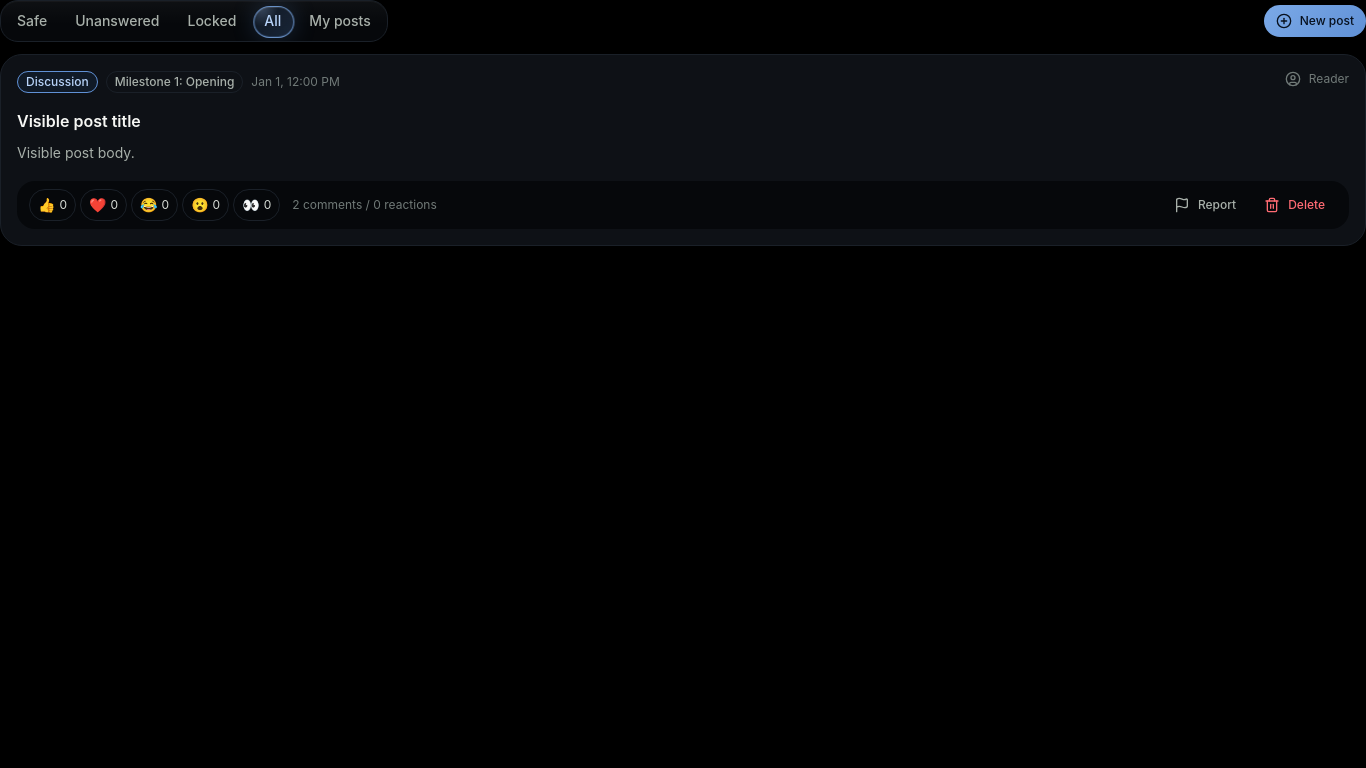
frontend regression smoke › deletes posts from feed cards when permitted
Expected: the link "Visible post title" is shown, [17,111,141,131]
What coordinates should you click on to do the following:
click the button "Delete"
I would click on:
 (1295, 205)
Its box is [1252,189,1337,221].
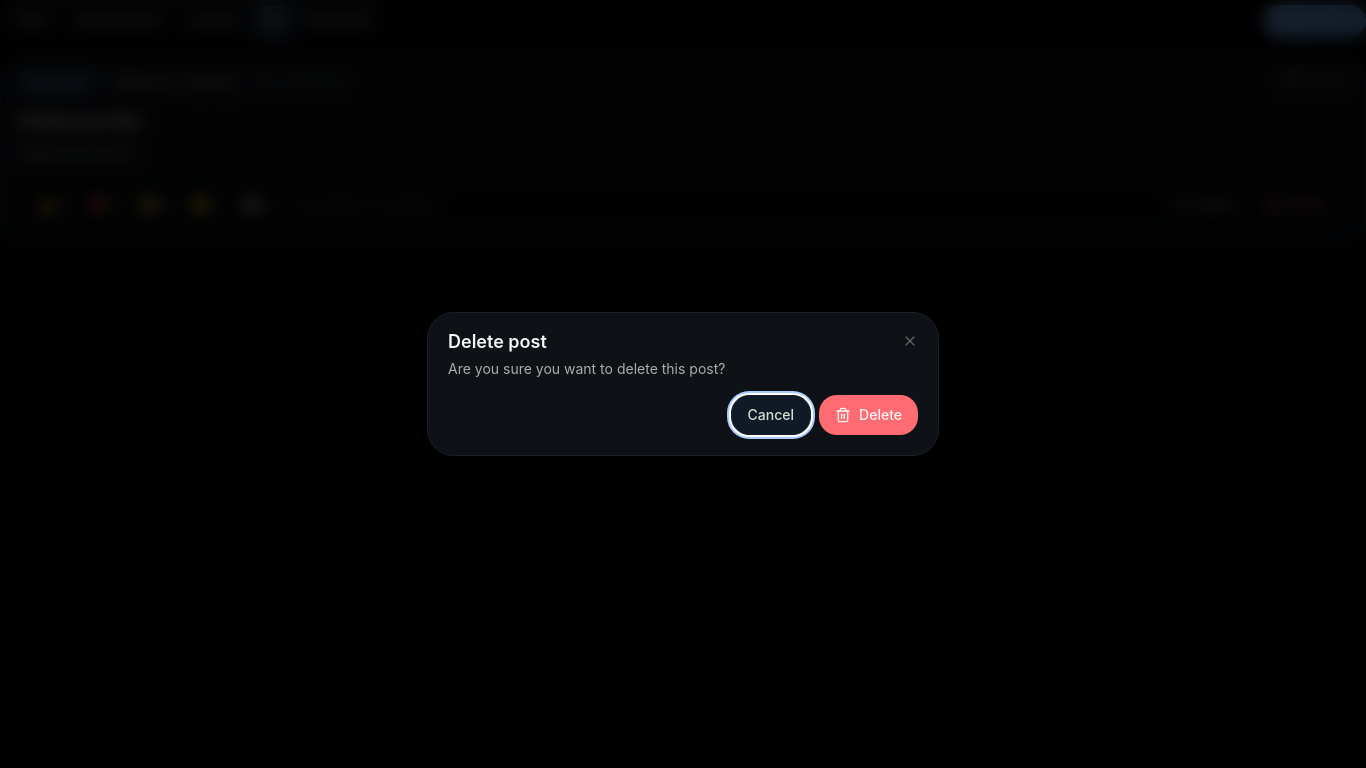
What coordinates should you click on to do the following:
click the button "Delete"
I would click on:
 (869, 415)
Its box is [819,395,918,435].
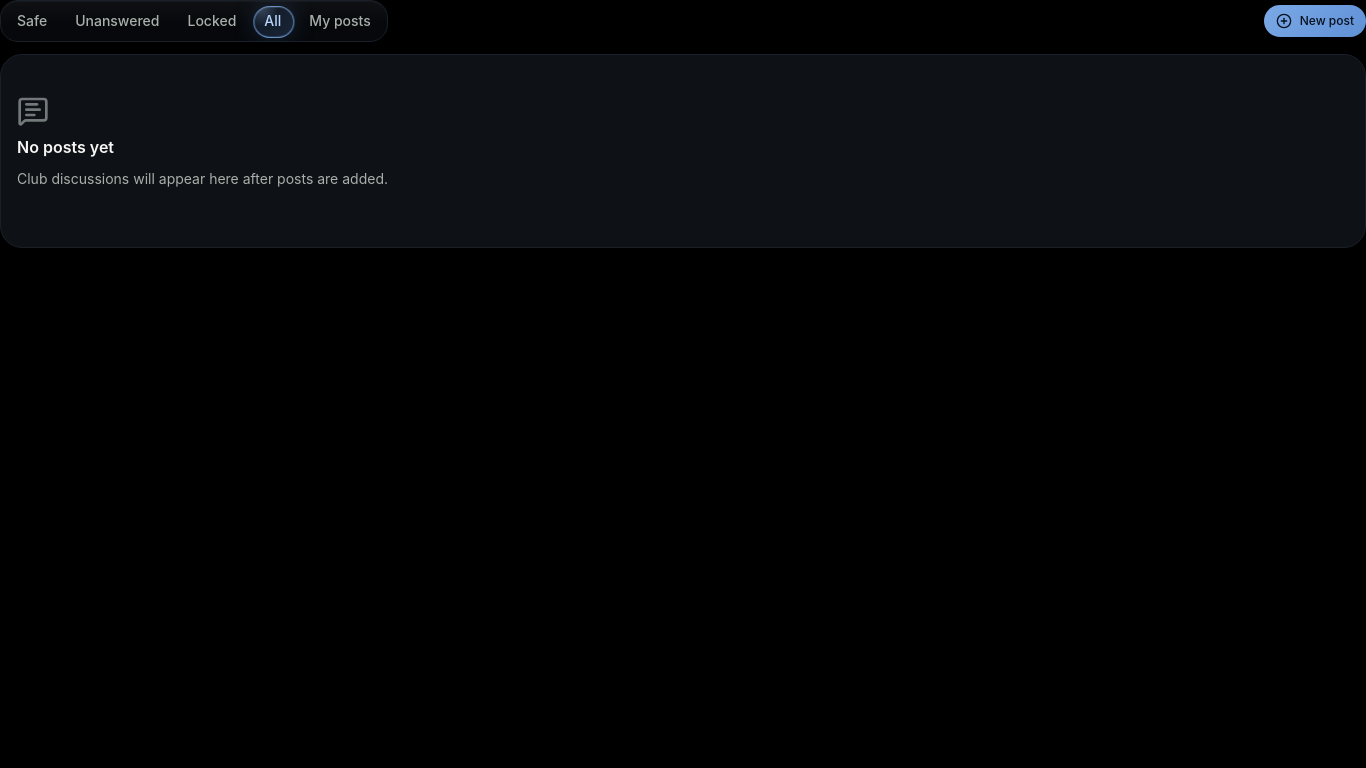
Result: the link "Visible post title" is gone
Result: the heading "No posts yet" is shown at [17,137,114,157]
